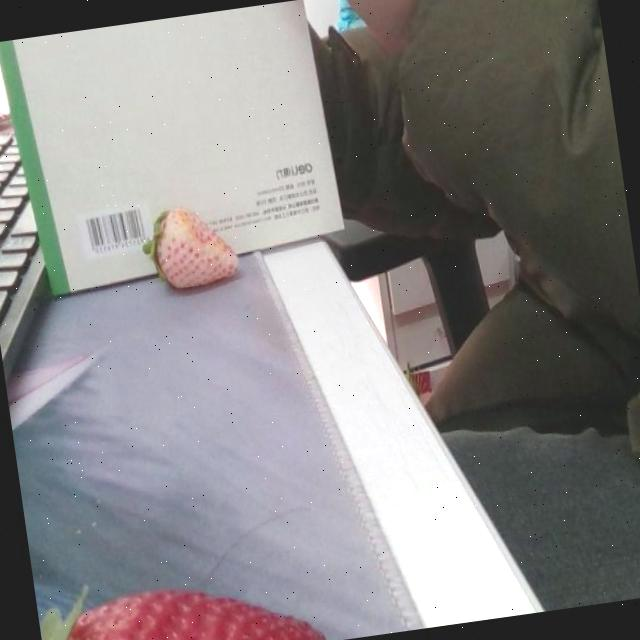ripe: (37, 563, 338, 640)
unripe: (148, 201, 242, 293)
